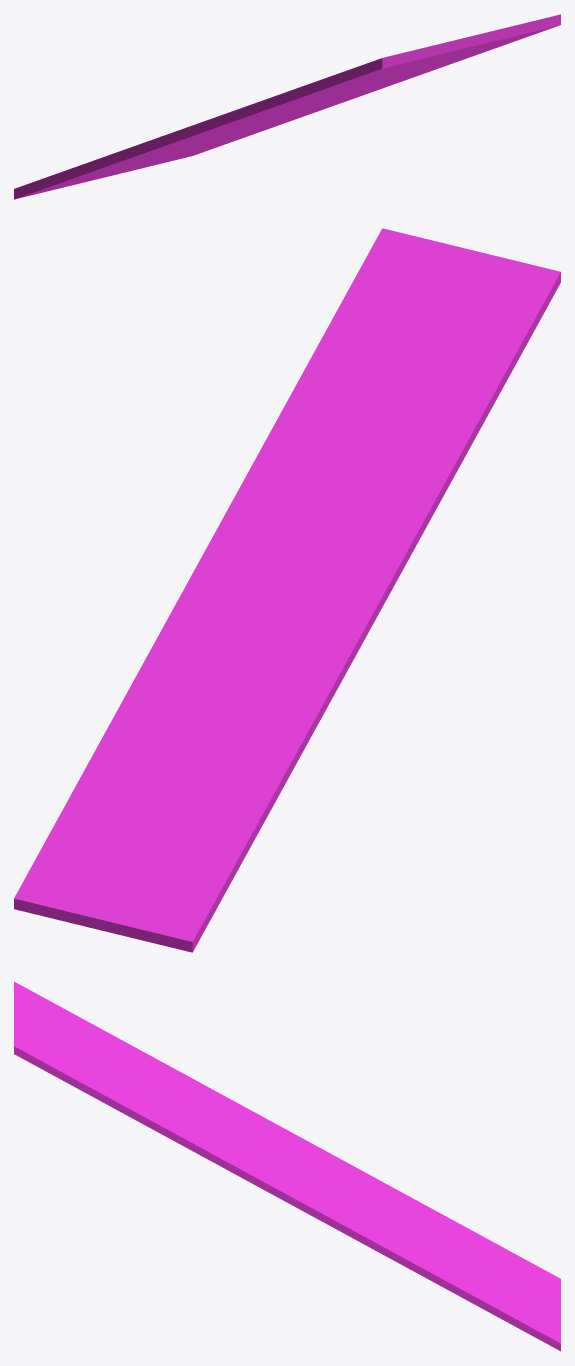
File: yx_stairs_collision.glb
The picture shows the model from 3 angles, top to bottom: view 1: azimuth 30°, elevation 25°; view 2: azimuth 150°, elevation 25°; view 3: azimuth 270°, elevation 25°; orthographic projection. The views are drawn at different scales.
Visible parts, largest first — view 1: yx_stairs_collision; view 2: yx_stairs_collision; view 3: yx_stairs_collision.
Boxes of the visible parts, x1,y1,x2,y2 form: yx_stairs_collision: (14,14,560,199); yx_stairs_collision: (14,228,560,952); yx_stairs_collision: (14,981,560,1351).
Bounding box in the file's own units: 1.4 × 3.08 × 5.
